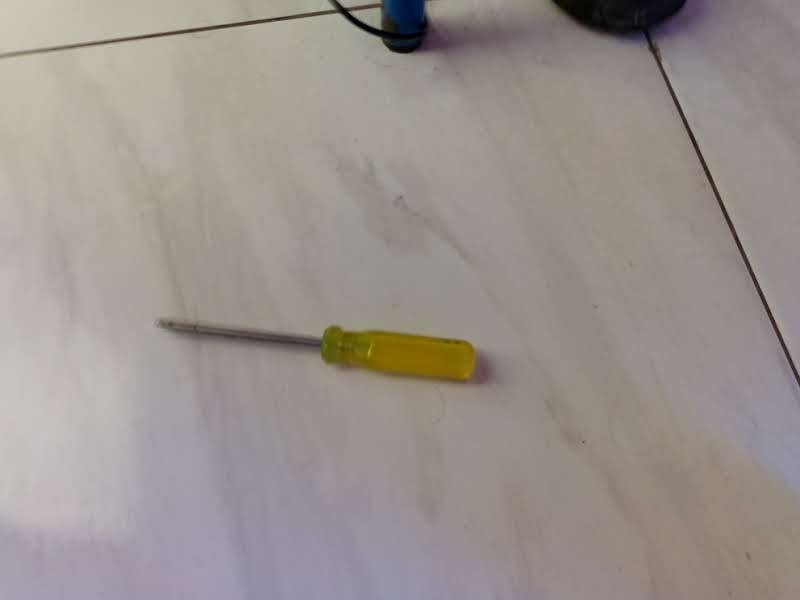Destornillador: (157, 318, 474, 380)
